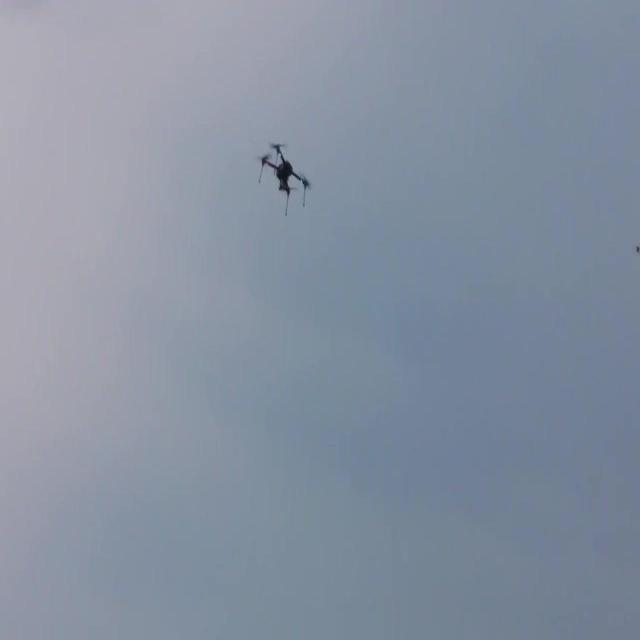drone: (256, 137, 315, 219)
